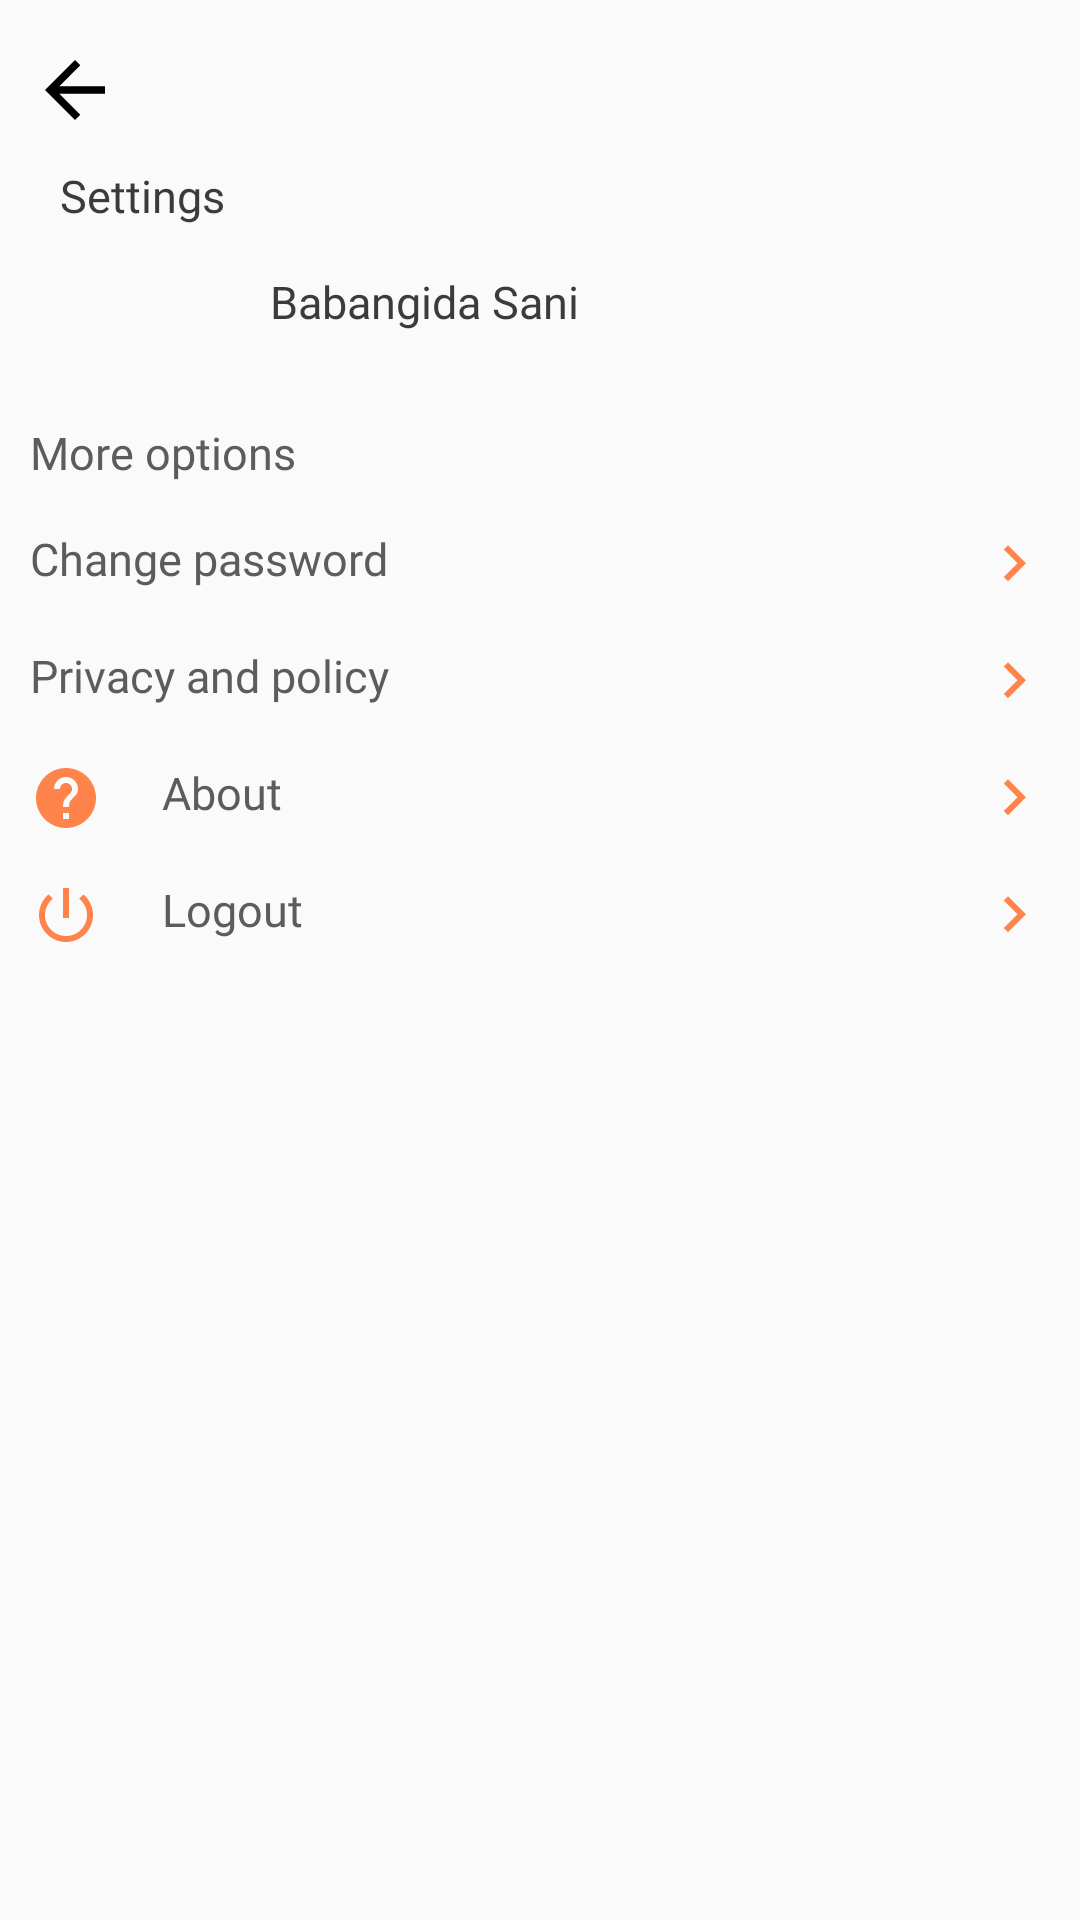

Icons on this 1080w x 1920h Android screen, each with the point to tap as [x,y]:
arrow back: [75,90]
